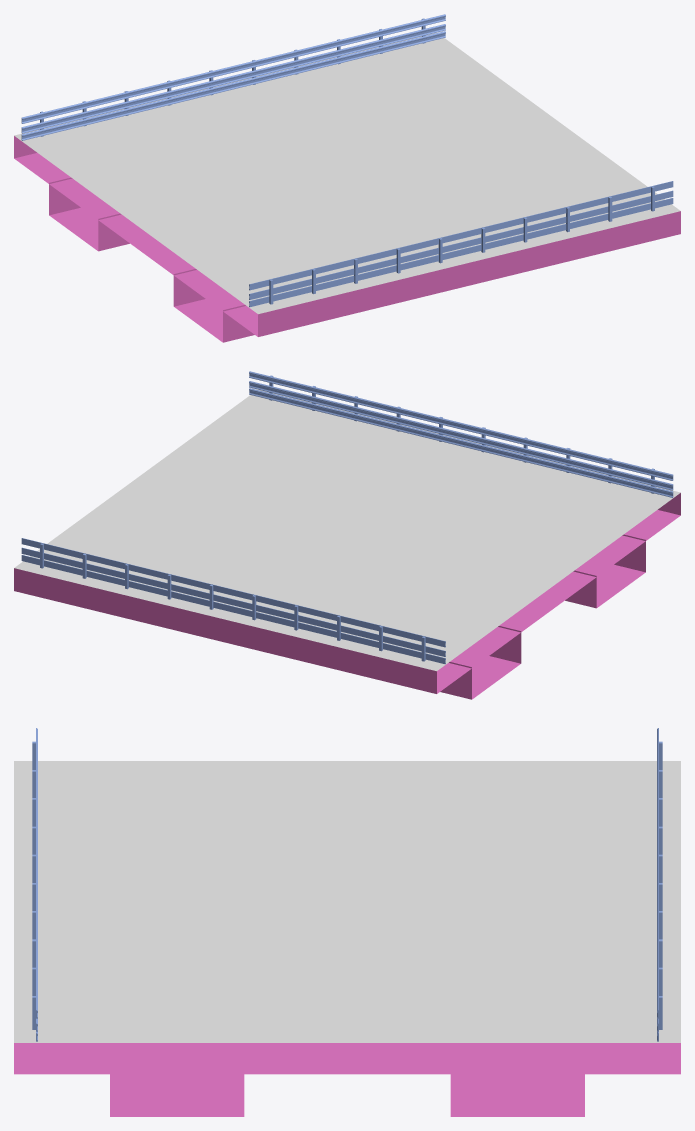
File: Tim experiment.fbx
3 renders of one model, top to bottom at view 1: azimuth 30°, elevation 25°; view 2: azimuth 150°, elevation 25°; view 3: azimuth 270°, elevation 25°, orthographic. The views are drawn at different scales.
Parts seen in each view (by area): view 1: RoadRecht, RailingRecht; view 2: RoadRecht, RailingRecht; view 3: RoadRecht, RailingRecht.
Boxes of the visible parts, left/top/right/bottom form: RoadRecht: left=14, top=32, right=680, bottom=342; RailingRecht: left=21, top=14, right=673, bottom=307; RoadRecht: left=14, top=389, right=680, bottom=699; RailingRecht: left=21, top=371, right=673, bottom=664; RoadRecht: left=14, top=761, right=680, bottom=1116; RailingRecht: left=32, top=728, right=662, bottom=1041.
Bounding box in the file's own units: 2004 × 353 × 2000.
